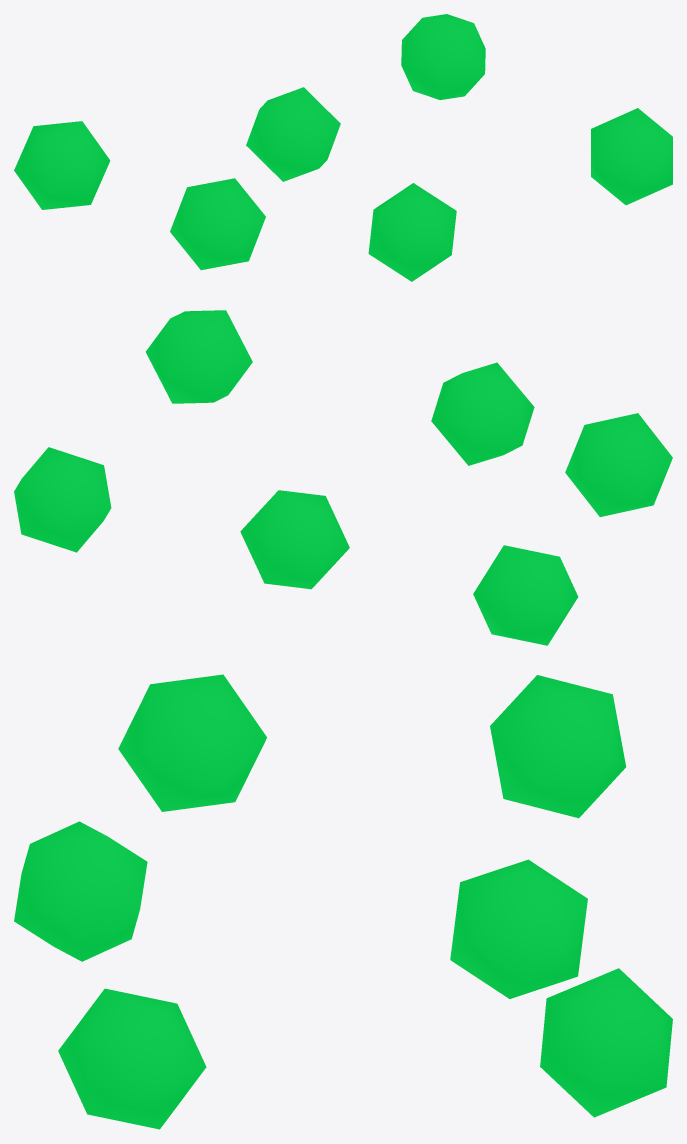
The model's file is sprouts.glb.
3 renders of one model, top to bottom at view 1: azimuth 30°, elevation 25°; view 2: azimuth 150°, elevation 25°; view 3: azimuth 270°, elevation 25°, orthographic. The views are drawn at different scales.
Parts seen in each view (by area): view 1: Icosphere.005; view 2: Icosphere.005; view 3: Icosphere.005.
Part boxes in pixels (bbox=[...]): Icosphere.005: bbox=[14, 14, 672, 281]; Icosphere.005: bbox=[14, 310, 672, 645]; Icosphere.005: bbox=[14, 674, 672, 1129].
Bounding box in the file's own units: 0.9561 × 0.2006 × 0.6956.
